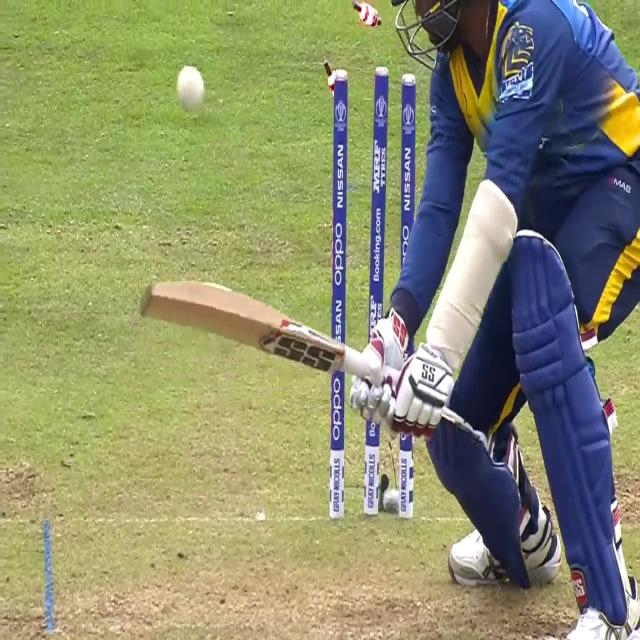ball: (176, 62, 206, 113)
